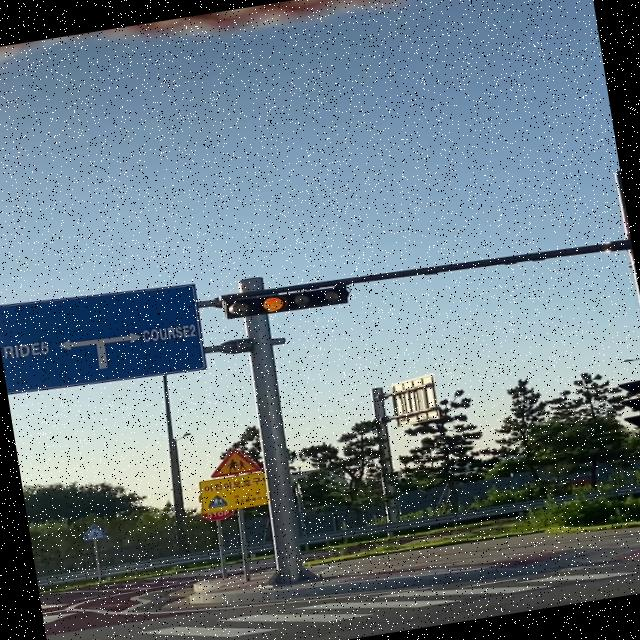yellow_light: (224, 282, 351, 322)
